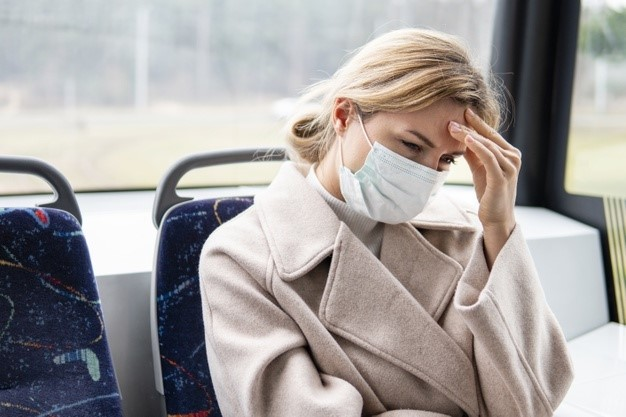face_with_mask: (327, 60, 480, 236)
